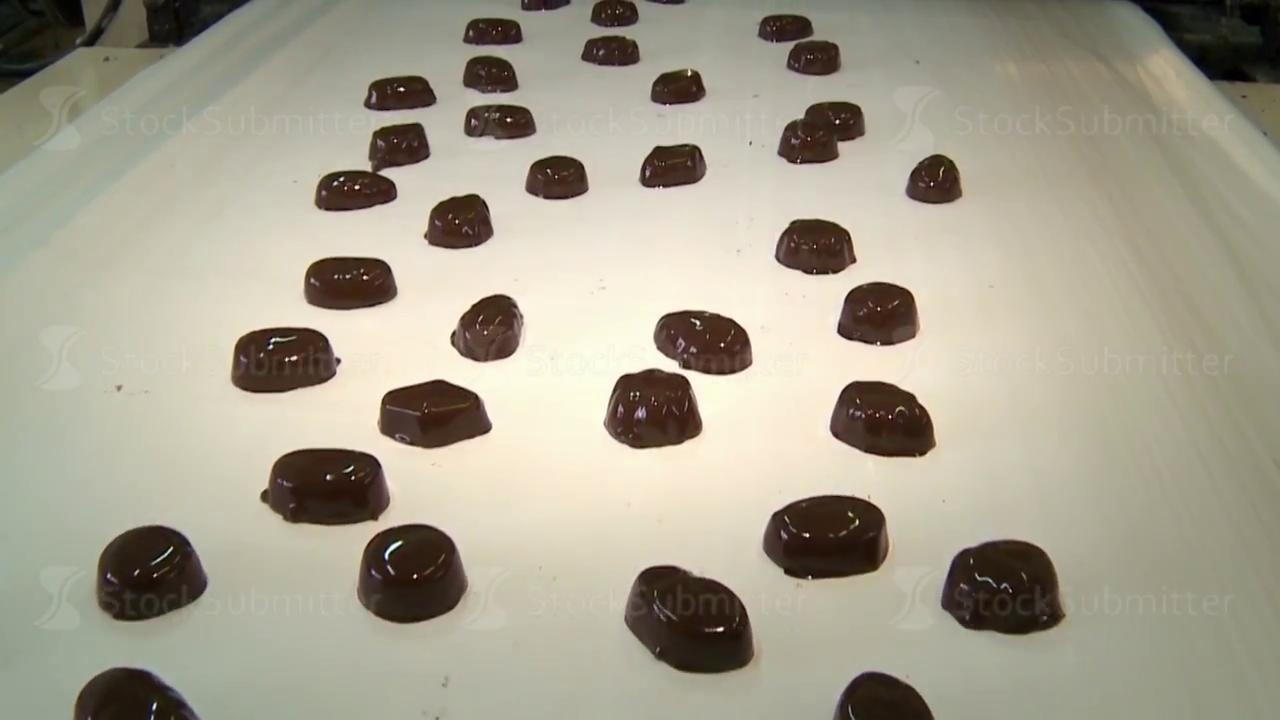chocolate: (624, 564, 754, 673), (941, 538, 1065, 634), (357, 523, 467, 623), (762, 493, 889, 579), (96, 523, 207, 621), (265, 447, 390, 525), (830, 379, 936, 457), (604, 368, 702, 448), (379, 378, 491, 448), (231, 326, 340, 392), (73, 666, 200, 719), (653, 309, 752, 374), (837, 281, 919, 345), (450, 293, 524, 361), (833, 670, 935, 719), (304, 256, 397, 309), (775, 218, 856, 275), (424, 193, 493, 248), (314, 169, 396, 211), (639, 143, 706, 188), (368, 122, 429, 169), (525, 155, 588, 199), (778, 118, 838, 164), (906, 154, 962, 203), (464, 103, 536, 139), (364, 75, 436, 110), (805, 100, 865, 140), (463, 55, 518, 93), (651, 68, 705, 105), (787, 40, 840, 75), (581, 35, 640, 66), (463, 17, 522, 45), (757, 14, 813, 42), (590, 0, 638, 27)
